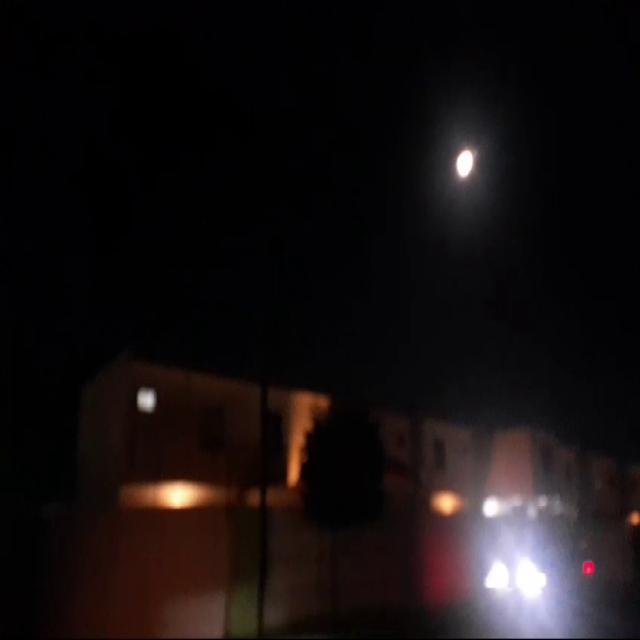moon: (444, 150, 464, 184)
